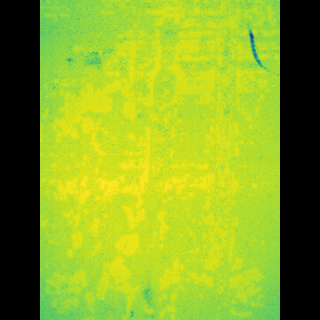Loch: (71, 0, 189, 320), (193, 0, 216, 301), (217, 86, 247, 316)
